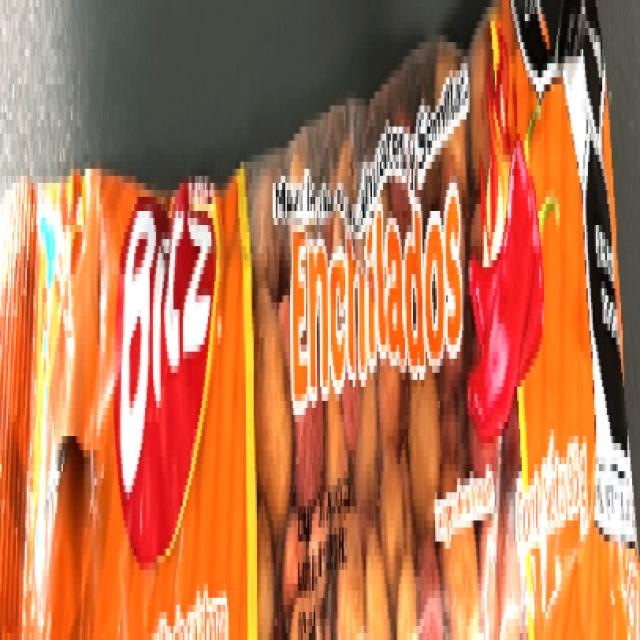bitzEnchilado95: (12, 57, 617, 640)
